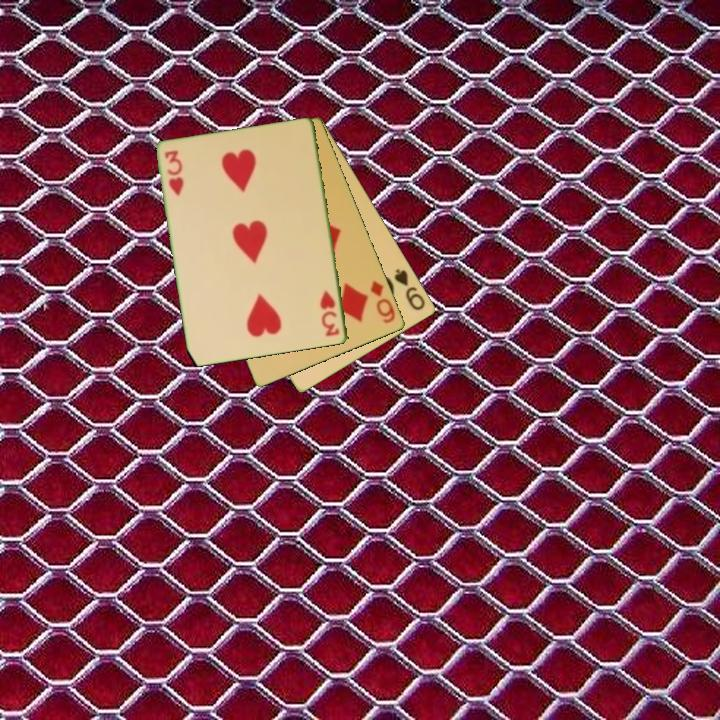3h: (161, 147, 187, 199), (317, 287, 342, 340)
6d: (367, 277, 398, 326)
9s: (391, 265, 428, 314)
